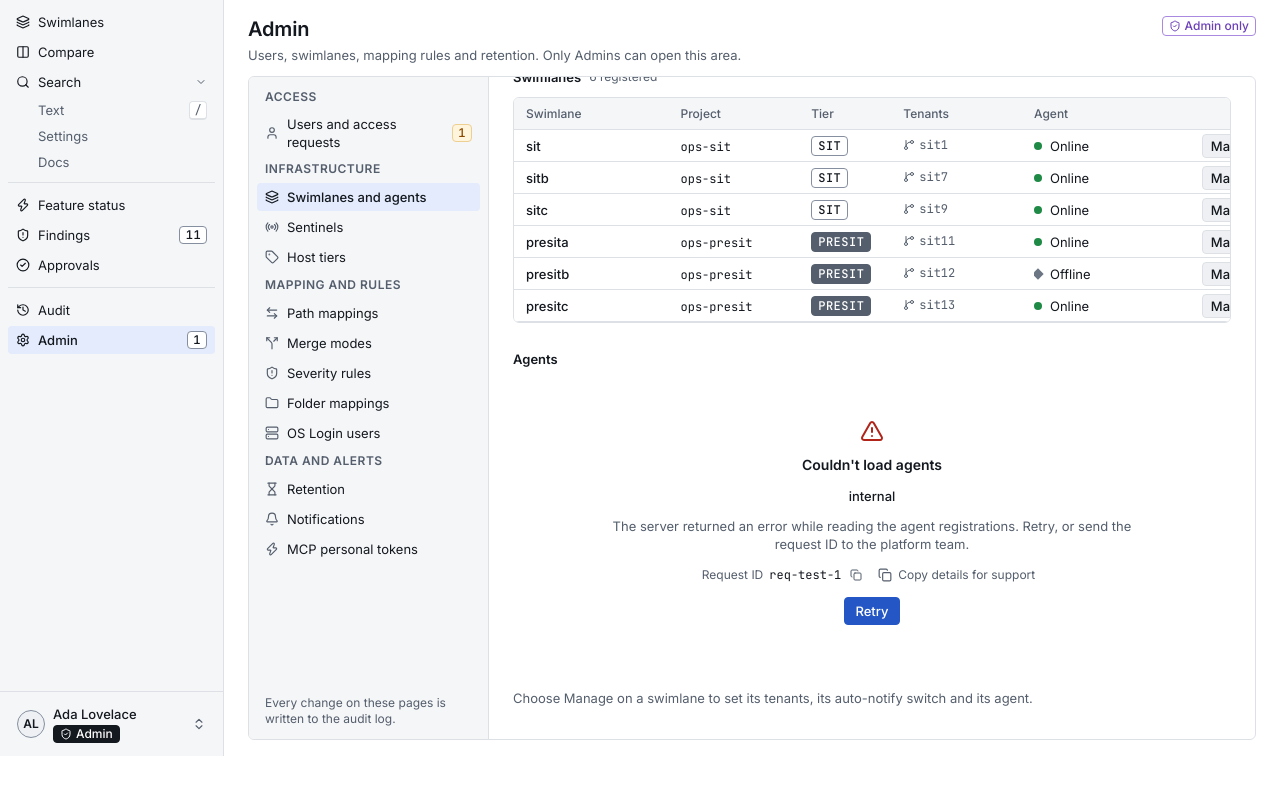
Test: the lists › says which list could not be loaded, with the request id, and the other still shows
The width and height of the screenshot is (1280, 800).
(page scrolled)
Expected: the heading "Admin" is shown, [248, 17, 309, 41]
Expected: the heading "Couldn't load agents" is shown, [802, 455, 942, 475]
Click the button "Retry" at (872, 611), box [844, 597, 900, 625]
(page scrolled)
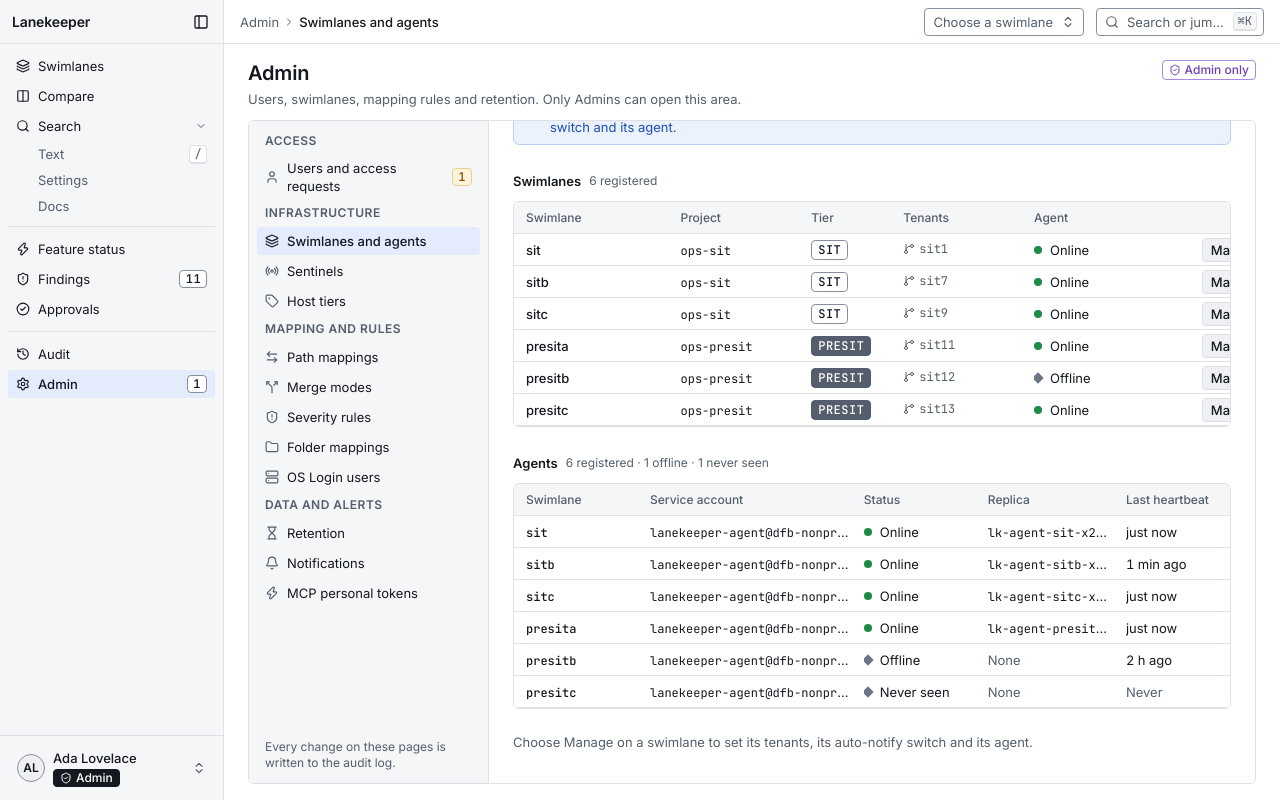
Now the text "sitb" is shown, box [526, 556, 555, 572]
